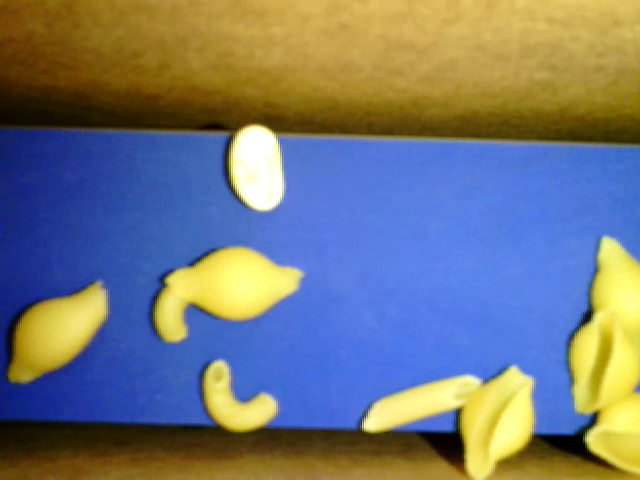elbow: (201, 358, 277, 434), (152, 288, 189, 342)
penne: (362, 375, 481, 433)
shell: (165, 245, 304, 321), (7, 281, 107, 385), (460, 364, 534, 479), (568, 313, 639, 414), (587, 234, 639, 348), (584, 390, 639, 474)
